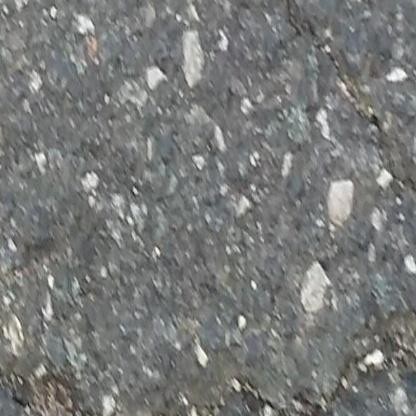Cracks: (0, 305, 416, 416), (281, 0, 416, 210)
